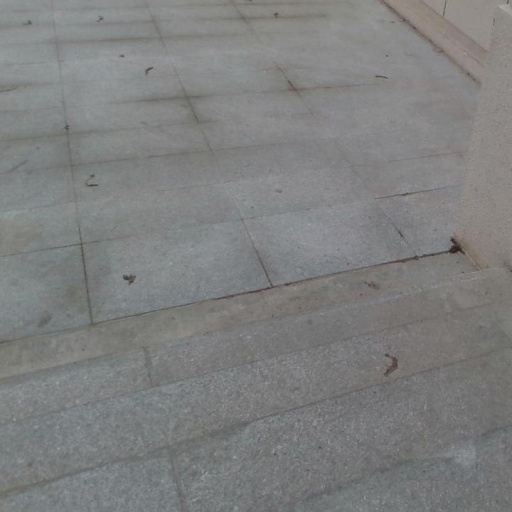Stairs: (0, 253, 512, 512)
